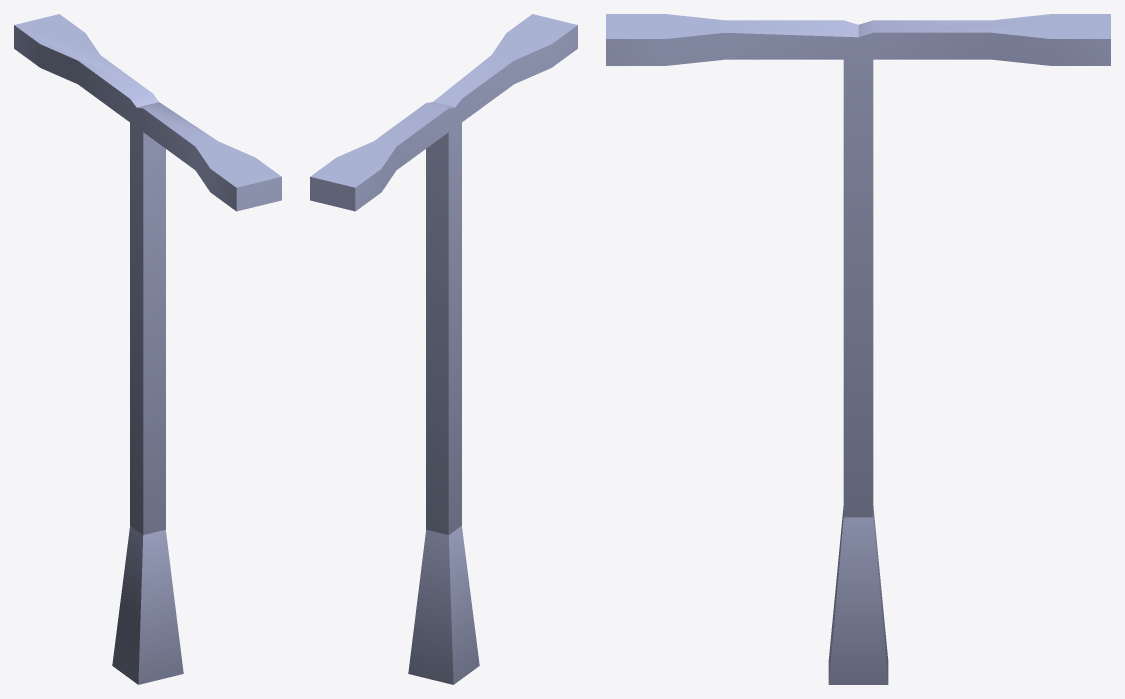
File: lamp-double.glb
3 renders of one model, left to right at view 1: azimuth 30°, elevation 25°; view 2: azimuth 150°, elevation 25°; view 3: azimuth 270°, elevation 25°, orthographic. The views are drawn at different scales.
Parts seen in each view (by area): view 1: light-square-double; view 2: light-square-double; view 3: light-square-double.
Part boxes in pixels (x1,y1,x2,y2): light-square-double: (14,14,281,684); light-square-double: (310,14,577,684); light-square-double: (606,14,1110,684).
Size of the model in its own units: 0.05 by 0.6 by 0.425.
1 material, 1 textured.
